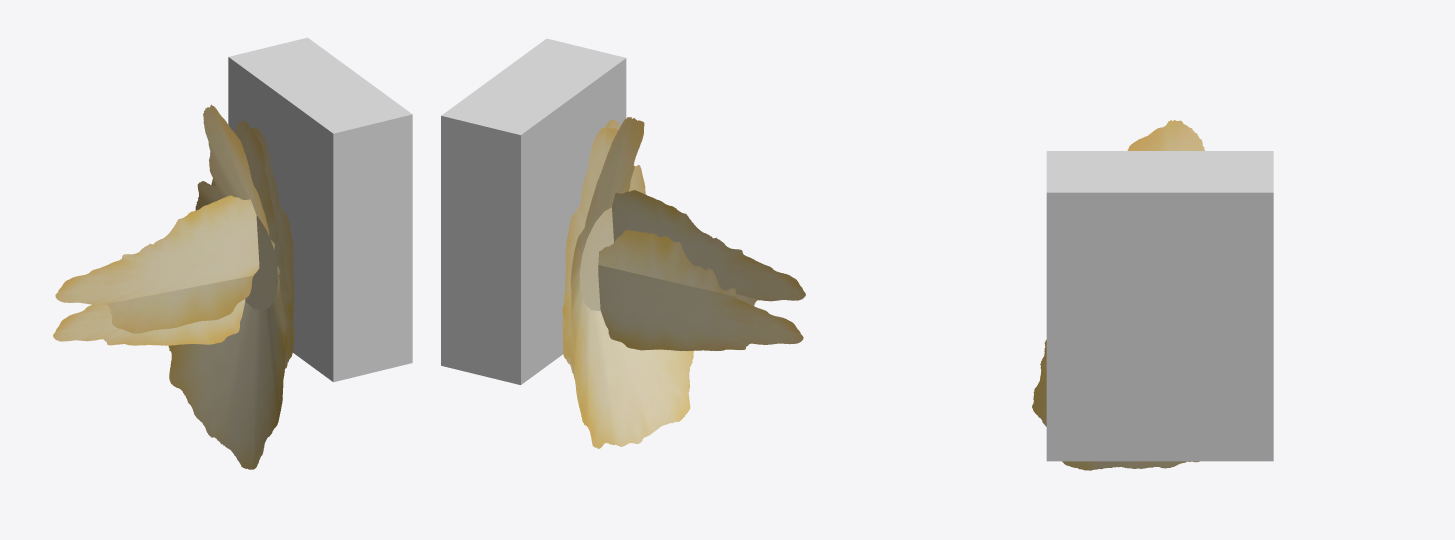
Rendered from gunshot.FBX.
3 views of the same model, side by side, from view 1: azimuth 30°, elevation 25°; view 2: azimuth 150°, elevation 25°; view 3: azimuth 270°, elevation 25° (orthographic). The views are drawn at different scales.
Visible parts, largest first — view 1: Box003, Box002; view 2: Box003, Box002; view 3: Box003, Box002.
Boxes of the visible parts, bbox=[...] form: Box003: bbox=[228, 37, 412, 382]; Box002: bbox=[53, 104, 294, 469]; Box003: bbox=[441, 38, 626, 384]; Box002: bbox=[562, 117, 805, 448]; Box003: bbox=[1046, 151, 1273, 461]; Box002: bbox=[1032, 120, 1204, 470].
Size of the model in its own units: 12.09 by 15.79 by 15.85.
